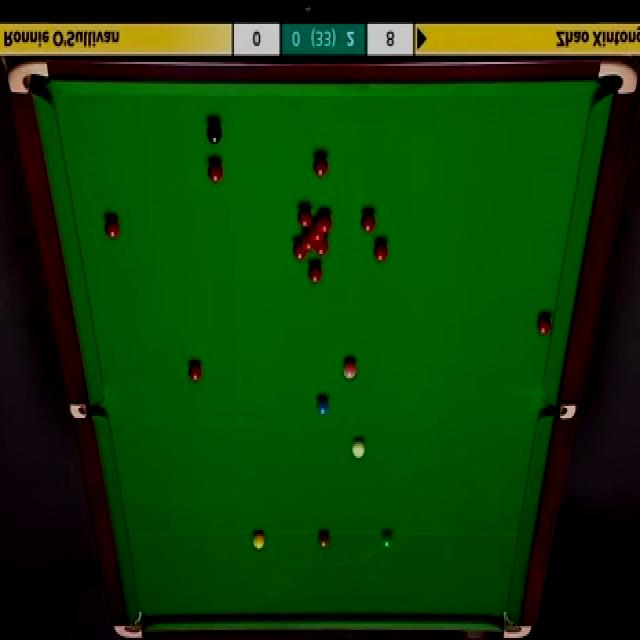pocket: (595, 56, 637, 98), (7, 58, 51, 97), (111, 604, 146, 638), (502, 608, 534, 638), (70, 405, 105, 423), (542, 403, 575, 419)
